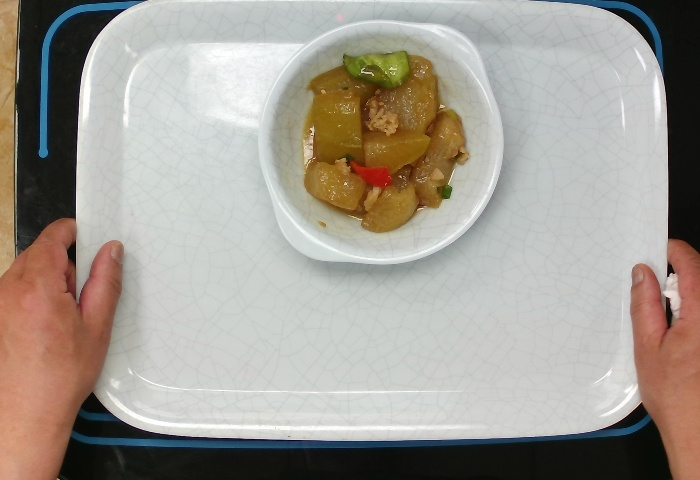JYsf-Shuang_Er_Wan: (254, 2, 507, 273)
